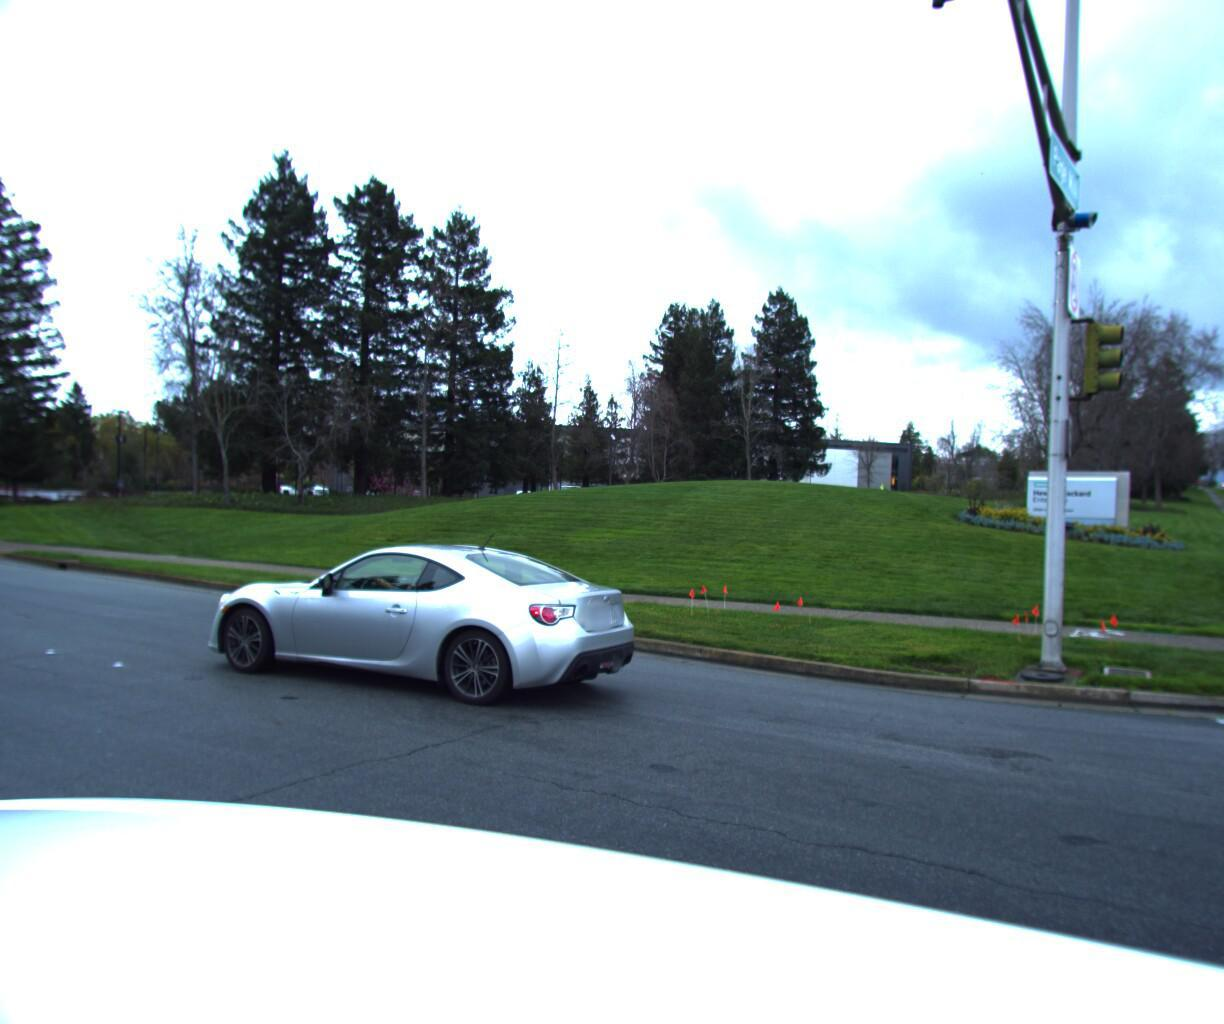car: (147, 527, 642, 721)
